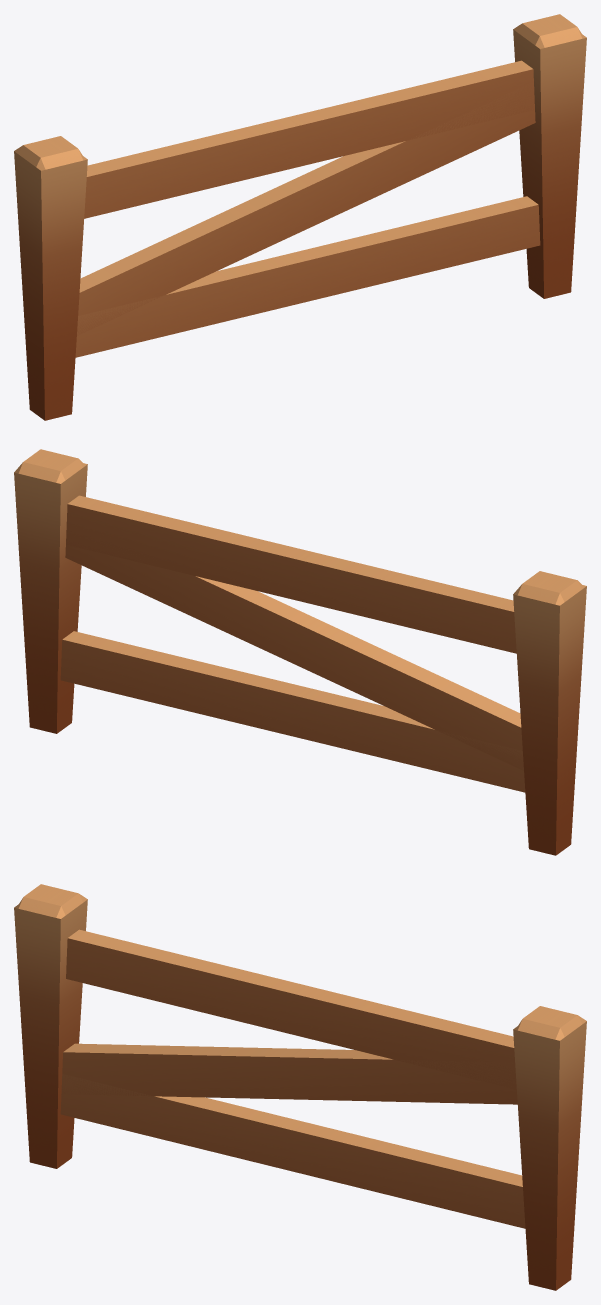
The model's file is PortaoInteiro.fbx.
The picture shows the model from 3 angles, top to bottom: view 1: azimuth 30°, elevation 25°; view 2: azimuth 150°, elevation 25°; view 3: azimuth 330°, elevation 25°; orthographic projection.
Parts seen in each view (by area): view 1: Fence; view 2: Fence; view 3: Fence.
Boxes of the visible parts, box(x1,y1,x2,y2) form: Fence: box(14, 14, 586, 420); Fence: box(14, 449, 586, 855); Fence: box(14, 884, 586, 1290).
Bounding box in the file's own units: 514 × 238 × 44.11.
